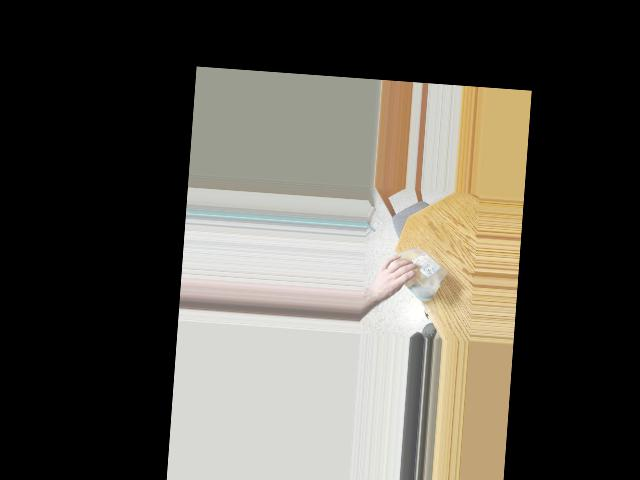cheese: (380, 243, 450, 300)
